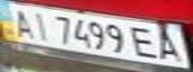4: (69, 16, 90, 48)
7: (48, 12, 75, 45)
9: (106, 21, 130, 55), (87, 19, 109, 51)
A: (151, 26, 187, 63), (6, 6, 39, 38)
E: (127, 24, 163, 60)
I: (27, 9, 54, 42)
